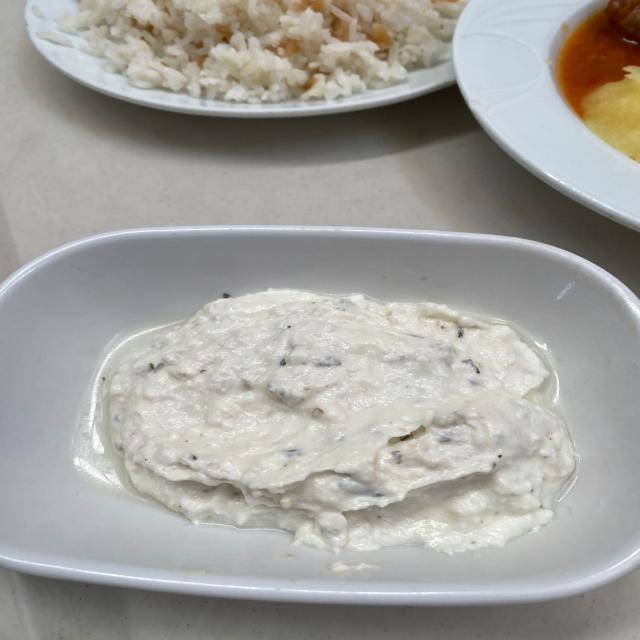yan_yemek: (100, 286, 580, 556)
